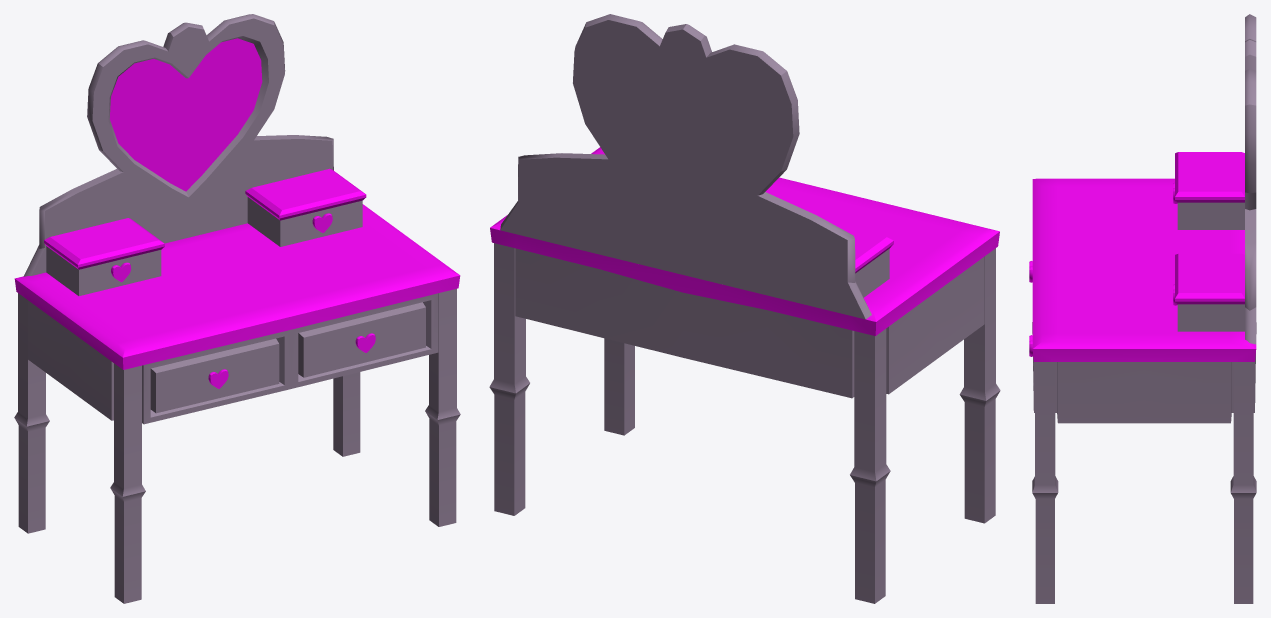
File: HeartDresser.fbx
3 renders of one model, left to right at view 1: azimuth 30°, elevation 25°; view 2: azimuth 150°, elevation 25°; view 3: azimuth 270°, elevation 25°, orthographic. The views are drawn at different scales.
Visible parts, largest first — view 1: HeartDresser; view 2: HeartDresser; view 3: HeartDresser.
Boxes of the visible parts, x1,y1,x2,y2 form: HeartDresser: [14, 14, 460, 603]; HeartDresser: [489, 14, 1000, 603]; HeartDresser: [1029, 14, 1256, 603].
Bounding box in the file's own units: 3.39 × 4.45 × 1.91.
